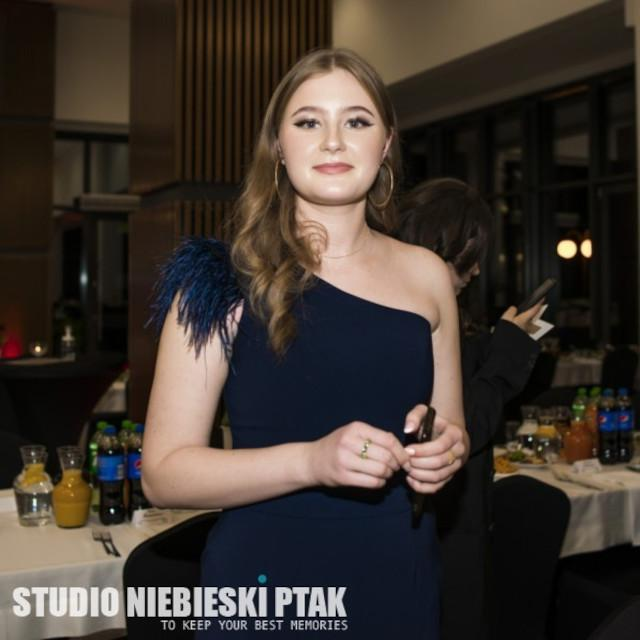kobieta: (147, 50, 468, 635), (382, 182, 494, 302)
